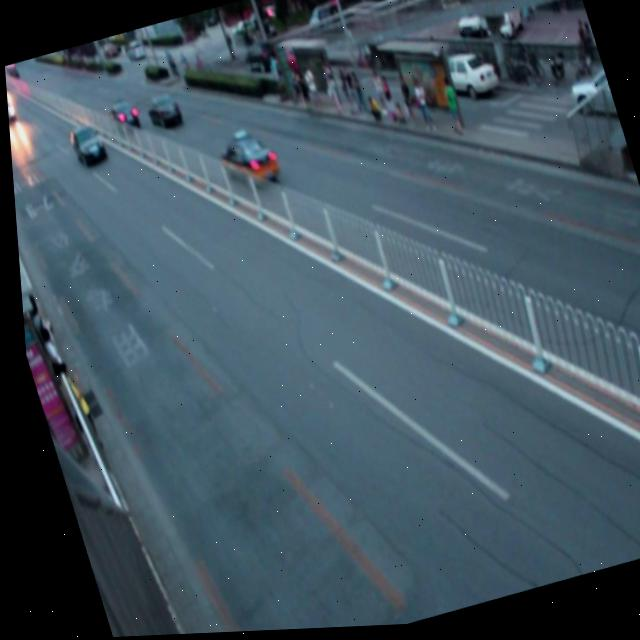car: (210, 127, 280, 198), (63, 118, 109, 172), (140, 88, 185, 138), (101, 97, 141, 142)
